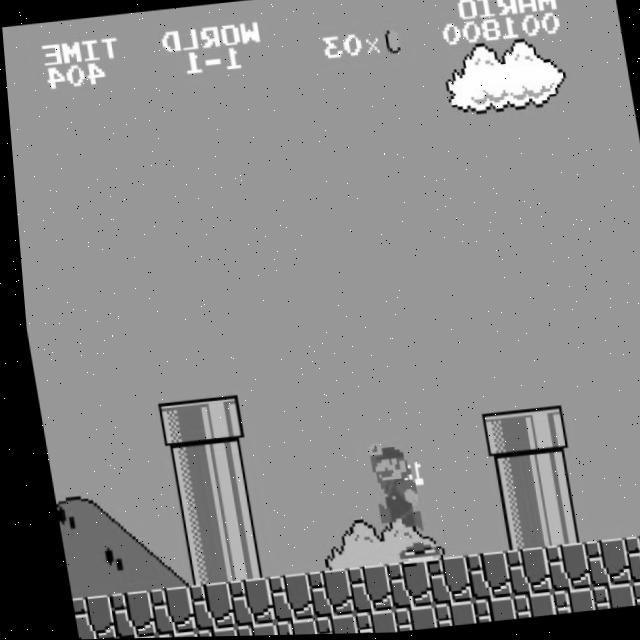0- big_mario: (360, 438, 417, 536)
14- pipe: (480, 457, 529, 507), (520, 453, 568, 503), (527, 498, 575, 548), (487, 502, 535, 552), (203, 486, 251, 536), (163, 490, 211, 540), (170, 536, 218, 586), (196, 441, 244, 490), (210, 532, 258, 581), (156, 445, 204, 494)
15- pipe_head: (473, 412, 522, 461), (189, 395, 237, 445), (513, 408, 561, 457), (149, 400, 197, 449)
17- undestructible_block: (533, 544, 582, 594), (454, 552, 503, 602), (375, 561, 424, 611), (573, 540, 621, 590), (494, 548, 542, 598), (336, 565, 384, 615), (296, 569, 344, 619), (257, 573, 305, 623), (177, 582, 225, 632), (138, 586, 186, 636), (415, 557, 463, 606), (217, 578, 265, 627), (98, 590, 146, 639), (61, 594, 105, 640), (613, 536, 640, 585), (580, 585, 625, 612), (540, 589, 585, 616), (461, 598, 506, 625), (382, 606, 427, 633), (422, 602, 466, 629), (501, 594, 546, 620), (342, 610, 387, 635), (303, 615, 347, 635), (263, 618, 307, 636), (223, 622, 267, 637), (620, 581, 640, 608), (183, 627, 227, 638), (144, 630, 187, 638)
